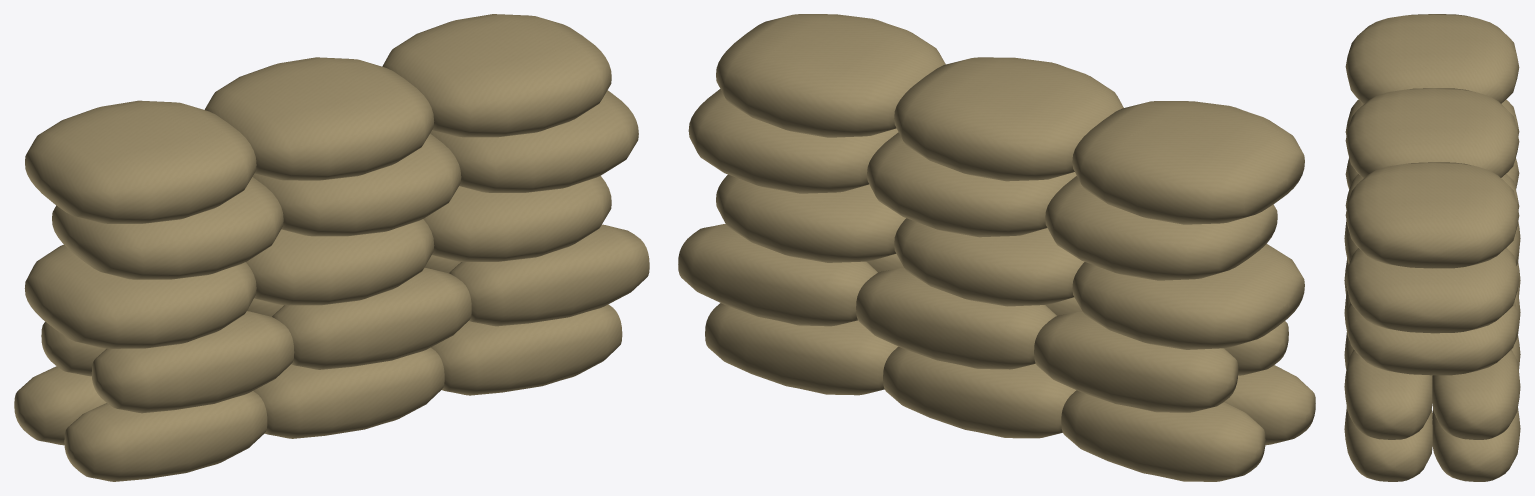
The model's file is sandbag-wall-segment.glb.
3 renders of one model, left to right at view 1: azimuth 30°, elevation 25°; view 2: azimuth 150°, elevation 25°; view 3: azimuth 270°, elevation 25°, orthographic. The views are drawn at different scales.
Parts seen in each view (by area): view 1: Filled tied cloth sandbag.018, Filled tied cloth sandbag.020, Filled tied cloth sandbag.019, Filled tied cloth sandbag.012, Filled tied cloth sandbag.006, Filled tied cloth sandbag.015, Filled tied cloth sandbag, Filled tied cloth sandbag.010, Filled tied cloth sandbag.008, Filled tied cloth sandbag.016, Filled tied cloth sandbag.004, Filled tied cloth sandbag.013 (+5 smaller); view 2: Filled tied cloth sandbag.018, Filled tied cloth sandbag.019, Filled tied cloth sandbag.020, Filled tied cloth sandbag.012, Filled tied cloth sandbag.007, Filled tied cloth sandbag.015, Filled tied cloth sandbag.001, Filled tied cloth sandbag.009, Filled tied cloth sandbag.011, Filled tied cloth sandbag.016, Filled tied cloth sandbag.017, Filled tied cloth sandbag.013 (+5 smaller); view 3: Filled tied cloth sandbag.020, Filled tied cloth sandbag.018, Filled tied cloth sandbag.019, Filled tied cloth sandbag.017, Filled tied cloth sandbag.014, Filled tied cloth sandbag.010, Filled tied cloth sandbag.011, Filled tied cloth sandbag.004, Filled tied cloth sandbag.005, Filled tied cloth sandbag.012, Filled tied cloth sandbag.013, Filled tied cloth sandbag.016 (+1 smaller).
Part boxes in pixels (x1=…): Filled tied cloth sandbag.018: x1=25, y1=100, x2=256, y2=223; Filled tied cloth sandbag.020: x1=382, y1=14, x2=611, y2=137; Filled tied cloth sandbag.019: x1=204, y1=57, x2=434, y2=180; Filled tied cloth sandbag.012: x1=24, y1=244, x2=256, y2=348; Filled tied cloth sandbag.006: x1=91, y1=311, x2=294, y2=413; Filled tied cloth sandbag.015: x1=52, y1=177, x2=283, y2=279; Filled tied cloth sandbag: x1=64, y1=391, x2=267, y2=481; Filled tied cloth sandbag.010: x1=449, y1=224, x2=649, y2=326; Filled tied cloth sandbag.008: x1=272, y1=267, x2=471, y2=369; Filled tied cloth sandbag.016: x1=252, y1=134, x2=461, y2=236; Filled tied cloth sandbag.004: x1=431, y1=304, x2=622, y2=395; Filled tied cloth sandbag.013: x1=246, y1=219, x2=434, y2=305; Filled tied cloth sandbag.018: x1=1072, y1=101, x2=1304, y2=224; Filled tied cloth sandbag.019: x1=894, y1=57, x2=1123, y2=181; Filled tied cloth sandbag.020: x1=716, y1=14, x2=945, y2=137; Filled tied cloth sandbag.012: x1=1072, y1=244, x2=1304, y2=349; Filled tied cloth sandbag.007: x1=1034, y1=311, x2=1238, y2=412; Filled tied cloth sandbag.015: x1=1045, y1=176, x2=1277, y2=280; Filled tied cloth sandbag.001: x1=1061, y1=390, x2=1265, y2=481; Filled tied cloth sandbag.009: x1=856, y1=267, x2=1056, y2=369; Filled tied cloth sandbag.011: x1=678, y1=224, x2=877, y2=326; Filled tied cloth sandbag.016: x1=867, y1=132, x2=1076, y2=237; Filled tied cloth sandbag.017: x1=688, y1=89, x2=898, y2=193; Filled tied cloth sandbag.013: x1=894, y1=218, x2=1084, y2=306; Filled tied cloth sandbag.020: x1=1345, y1=162, x2=1519, y2=268; Filled tied cloth sandbag.018: x1=1345, y1=14, x2=1519, y2=103; Filled tied cloth sandbag.019: x1=1345, y1=88, x2=1519, y2=178; Filled tied cloth sandbag.017: x1=1345, y1=248, x2=1519, y2=333; Filled tied cloth sandbag.014: x1=1345, y1=301, x2=1519, y2=375; Filled tied cloth sandbag.010: x1=1344, y1=350, x2=1432, y2=439; Filled tied cloth sandbag.011: x1=1432, y1=349, x2=1520, y2=439; Filled tied cloth sandbag.004: x1=1344, y1=406, x2=1432, y2=481; Filled tied cloth sandbag.005: x1=1432, y1=408, x2=1520, y2=481; Filled tied cloth sandbag.012: x1=1345, y1=158, x2=1519, y2=189; Filled tied cloth sandbag.013: x1=1345, y1=232, x2=1519, y2=263; Filled tied cloth sandbag.016: x1=1345, y1=173, x2=1519, y2=210.
Size of the model in its own units: 1.89 by 1 by 0.592.
Materials: 2 (2 with a texture image).
